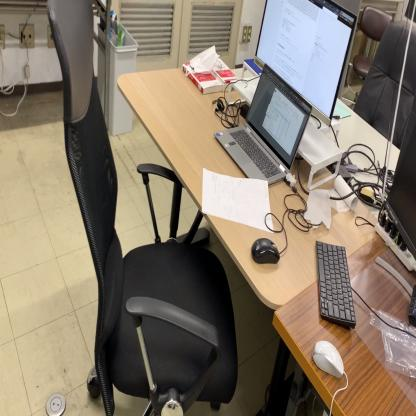chair: (46, 2, 238, 416)
